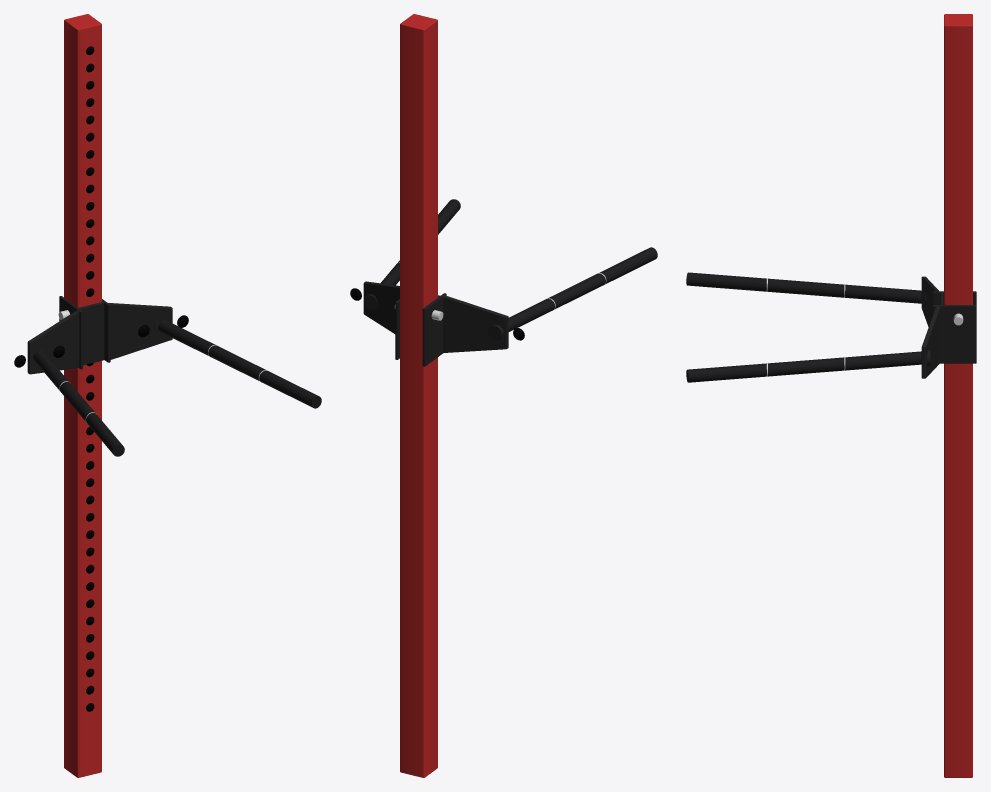
Rendered from mutant-metals-ultimate-dip-attachment_v001.glb.
3 renders of one model, left to right at view 1: azimuth 30°, elevation 25°; view 2: azimuth 150°, elevation 25°; view 3: azimuth 270°, elevation 25°, orthographic.
Visible parts, largest first — view 1: mutant-metals-ultimate-dip-attachment_red, mutant-metals-ultimate-dip-attachment_frame, mutant-metals-ultimate-dip-attachment_handle, mutant-metals-ultimate-dip-attachment_hole; view 2: mutant-metals-ultimate-dip-attachment_red, mutant-metals-ultimate-dip-attachment_frame, mutant-metals-ultimate-dip-attachment_handle; view 3: mutant-metals-ultimate-dip-attachment_red, mutant-metals-ultimate-dip-attachment_handle, mutant-metals-ultimate-dip-attachment_frame.
Part boxes in pixels (left/top/right/bottom): mutant-metals-ultimate-dip-attachment_red: left=64, top=14, right=101, bottom=777; mutant-metals-ultimate-dip-attachment_frame: left=27, top=296, right=172, bottom=374; mutant-metals-ultimate-dip-attachment_handle: left=33, top=320, right=321, bottom=456; mutant-metals-ultimate-dip-attachment_hole: left=14, top=46, right=188, bottom=711; mutant-metals-ultimate-dip-attachment_red: left=400, top=14, right=437, bottom=777; mutant-metals-ultimate-dip-attachment_frame: left=363, top=281, right=508, bottom=366; mutant-metals-ultimate-dip-attachment_handle: left=380, top=199, right=657, bottom=331; mutant-metals-ultimate-dip-attachment_red: left=944, top=14, right=972, bottom=777; mutant-metals-ultimate-dip-attachment_handle: left=686, top=272, right=922, bottom=382; mutant-metals-ultimate-dip-attachment_frame: left=921, top=276, right=976, bottom=378.
Size of the model in its own units: 0.6437 by 2.2 by 0.7695.
